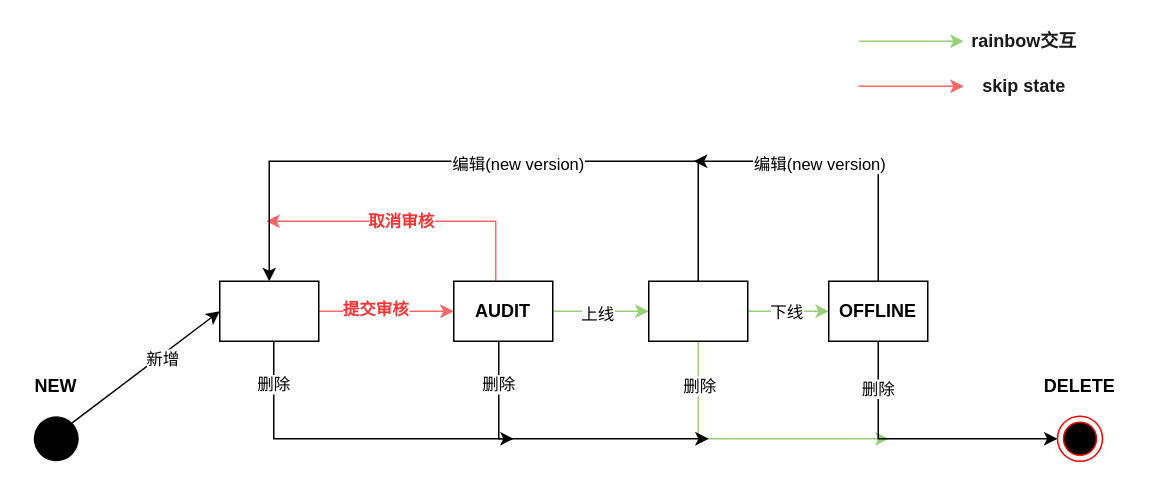
This 1161x488 diagram has some shape labels left out. Each missing label, with the centre of its shape:
DRAFT: (x=268, y=310)
RUNNING: (x=697, y=310)
